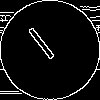I: (25, 25, 64, 69)
